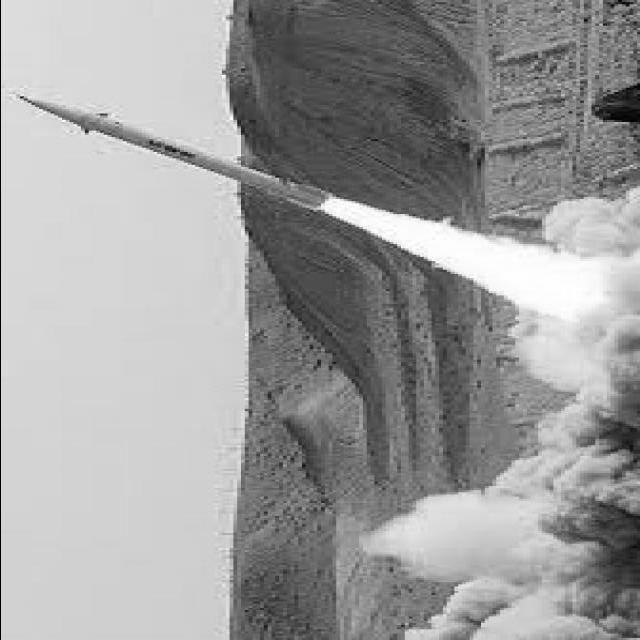Missile: (9, 89, 336, 213)
